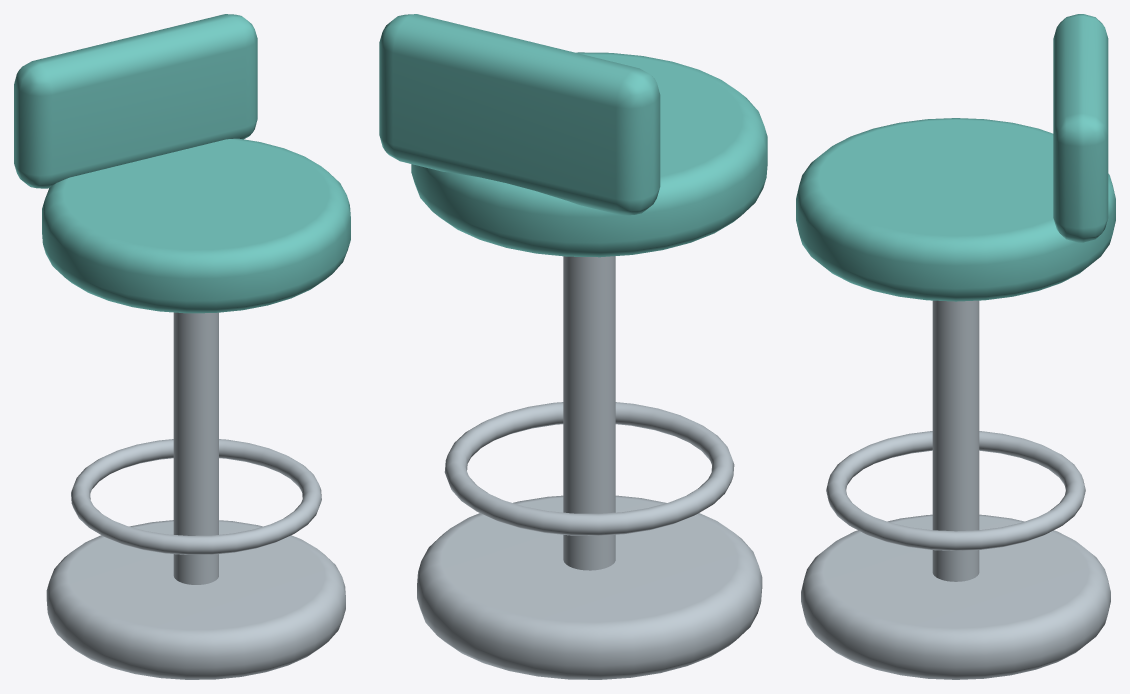
The model's file is kitchenBarStoolMetal.glb.
The picture shows the model from 3 angles, left to right: view 1: azimuth 30°, elevation 25°; view 2: azimuth 150°, elevation 25°; view 3: azimuth 270°, elevation 25°; orthographic projection. The views are drawn at different scales.
Visible parts, largest first — view 1: Mint bar stool seat, Wide stool base, Low mint stool back, Pedestal stool stem, Circular footrest; view 2: Wide stool base, Low mint stool back, Mint bar stool seat, Pedestal stool stem, Circular footrest; view 3: Mint bar stool seat, Wide stool base, Pedestal stool stem, Low mint stool back, Circular footrest.
Part boxes in pixels (x1,y1,x2,y2): Mint bar stool seat: (42,138,350,313); Wide stool base: (46,520,345,679); Low mint stool back: (14,14,257,188); Pedestal stool stem: (173,312,218,584); Circular footrest: (71,439,321,554); Wide stool base: (417,495,762,679); Low mint stool back: (379,14,660,215); Mint bar stool seat: (411,52,767,257); Pedestal stool stem: (563,256,615,570); Circular footrest: (444,402,734,535); Mint bar stool seat: (796,118,1115,301); Wide stool base: (801,514,1110,679); Pedestal stool stem: (932,300,979,581); Low mint stool back: (1053,14,1108,242); Circular footrest: (826,431,1085,550).
Bounding box in the file's own units: 0.64 × 1.23 × 0.64.
